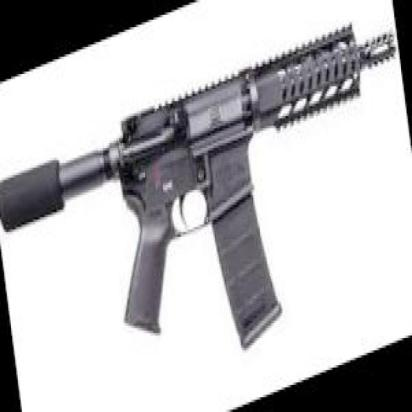Gun: (0, 22, 397, 342)
